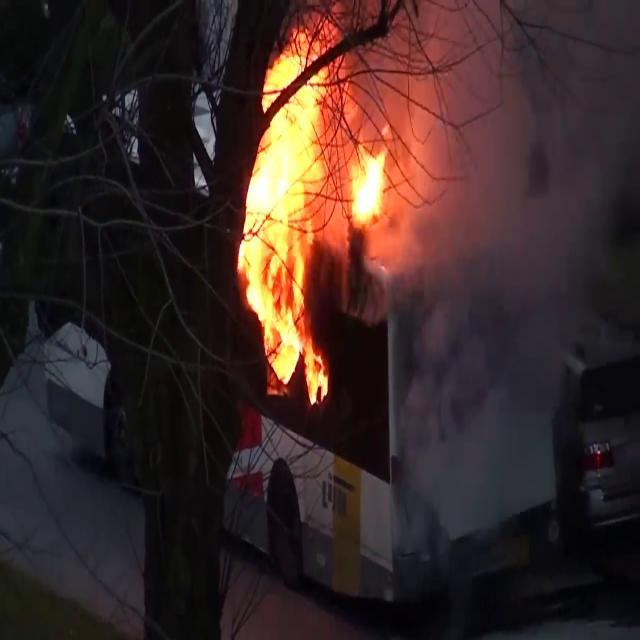Fire: (236, 9, 356, 388), (348, 140, 402, 232)
Smoke: (385, 0, 640, 600)
